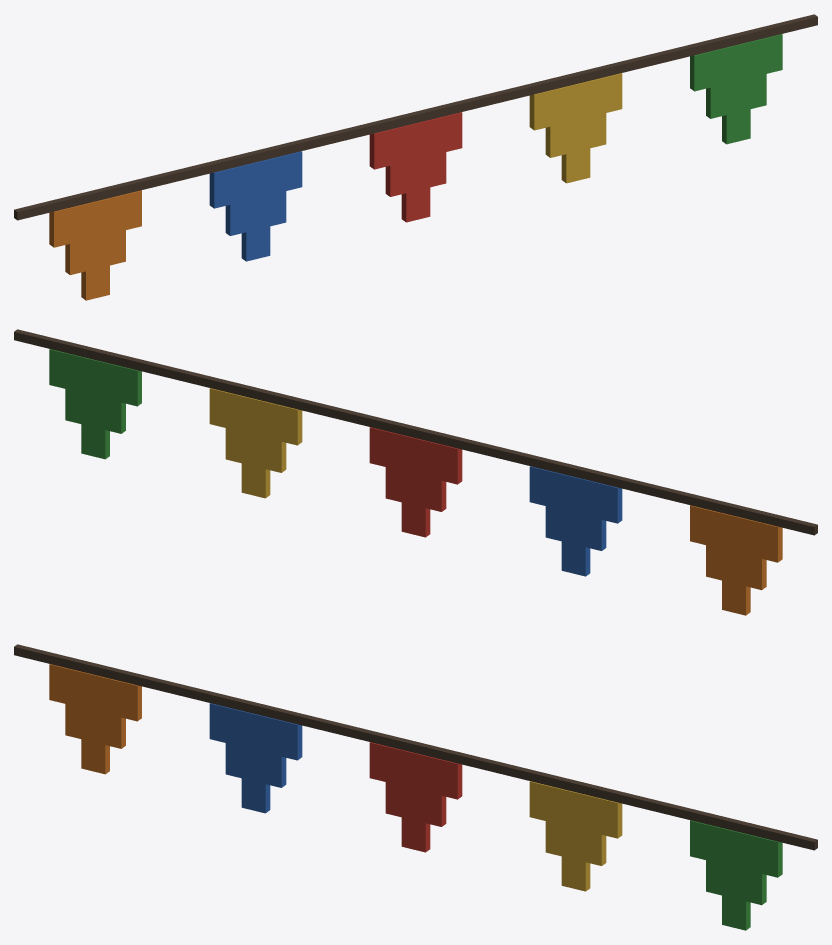
The model's file is cp-bunting-b.glb.
3 views of the same model, one above another, from view 1: azimuth 30°, elevation 25°; view 2: azimuth 150°, elevation 25°; view 3: azimuth 330°, elevation 25° (orthographic).
Visible parts, largest first — view 1: box-prop; view 2: box-prop; view 3: box-prop.
Part boxes in pixels (box(x1,y1,x2,y2)): box-prop: box(14, 14, 817, 300); box-prop: box(14, 329, 817, 615); box-prop: box(14, 644, 817, 930).
Bounding box in the file's own units: 4 × 0.5 × 0.04.
